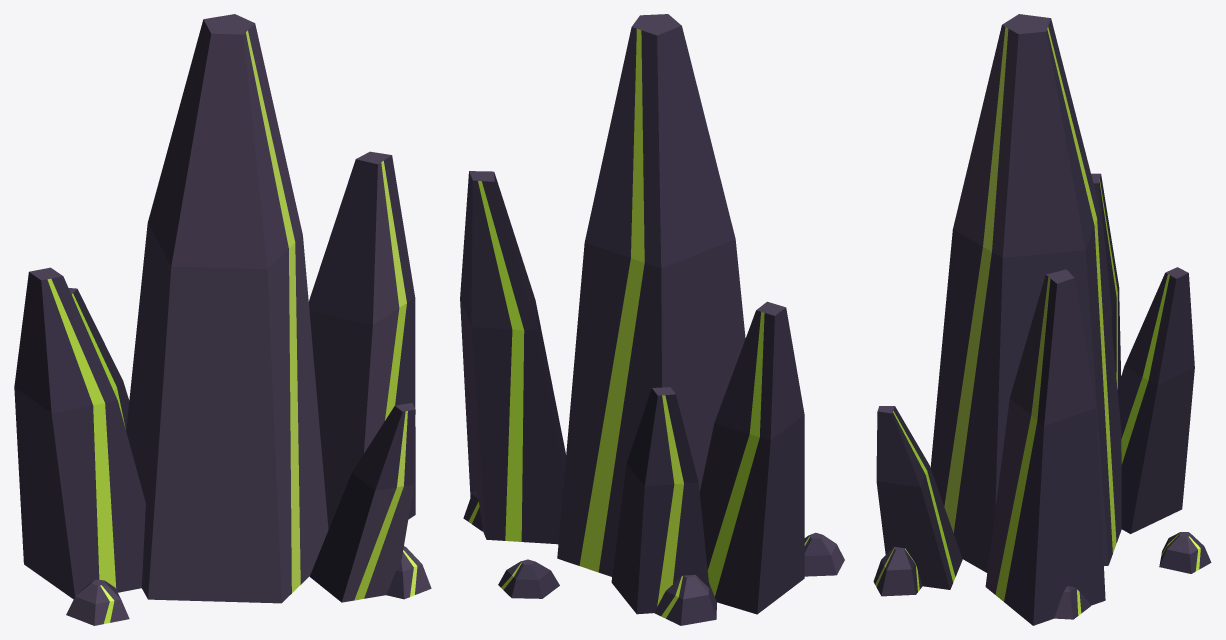
File: landmark-far.glb
3 renders of one model, left to right at view 1: azimuth 30°, elevation 25°; view 2: azimuth 150°, elevation 25°; view 3: azimuth 270°, elevation 25°, orthographic. The views are drawn at different scales.
Parts seen in each view (by area): view 1: monolith-far; view 2: monolith-far; view 3: monolith-far.
Boxes of the visible parts, x1,y1,x2,y2 form: monolith-far: (14,14,431,625); monolith-far: (460,14,844,625); monolith-far: (873,14,1211,625).
Size of the model in its own units: 23.02 by 32 by 19.1.
1 material, 1 textured.
